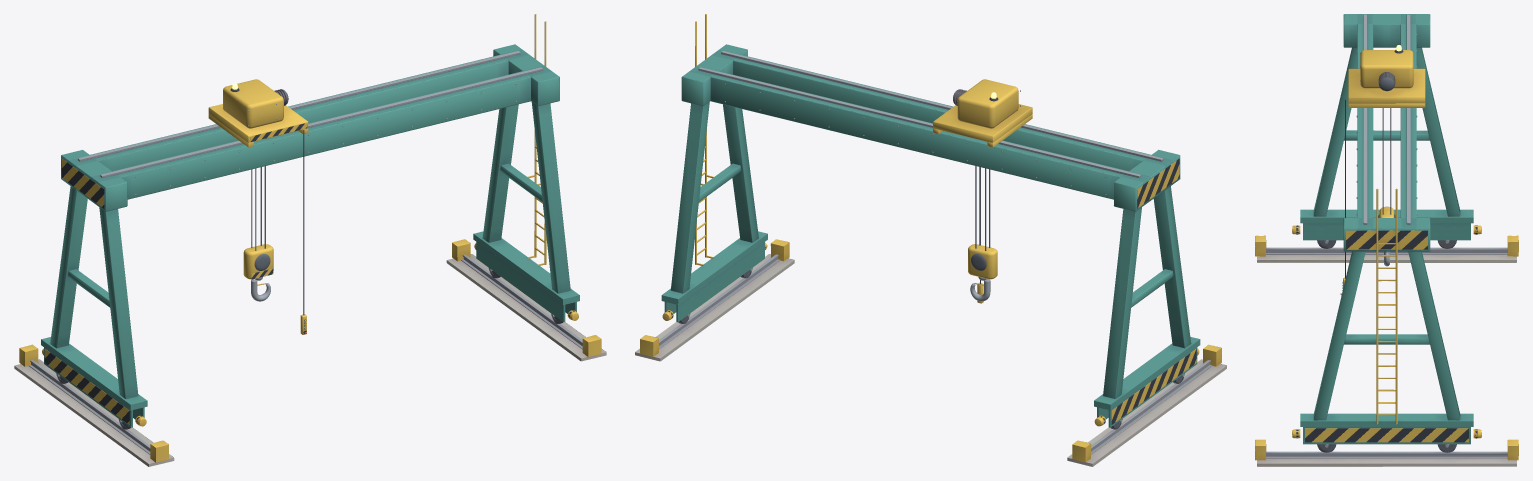
The model's file is overhead-crane-light.glb.
3 views of the same model, side by side, from view 1: azimuth 30°, elevation 25°; view 2: azimuth 150°, elevation 25°; view 3: azimuth 270°, elevation 25° (orthographic). The views are drawn at different scales.
Visible parts, largest first — view 1: overhead-crane_body, overhead-crane_trolley, overhead-crane_hook; view 2: overhead-crane_body, overhead-crane_trolley, overhead-crane_hook; view 3: overhead-crane_body, overhead-crane_trolley, overhead-crane_hook.
Part boxes in pixels (x1=…): overhead-crane_body: x1=14, y1=14, x2=606, y2=466; overhead-crane_trolley: x1=208, y1=79, x2=308, y2=334; overhead-crane_hook: x1=243, y1=166, x2=273, y2=301; overhead-crane_body: x1=635, y1=14, x2=1226, y2=466; overhead-crane_trolley: x1=933, y1=79, x2=1032, y2=303; overhead-crane_hook: x1=968, y1=166, x2=997, y2=301; overhead-crane_body: x1=1255, y1=14, x2=1518, y2=466; overhead-crane_trolley: x1=1340, y1=50, x2=1425, y2=295; overhead-crane_hook: x1=1378, y1=108, x2=1395, y2=266.
Size of the model in its own units: 10.64 by 6.43 by 5.47.
4 materials, 3 textured.
